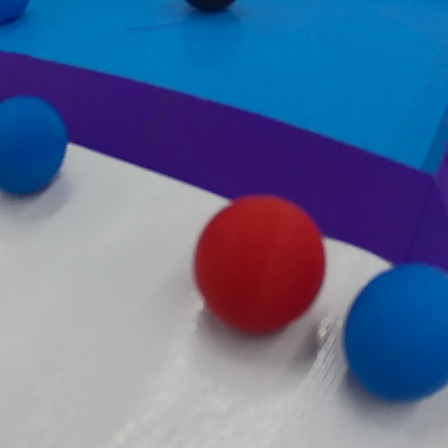blue: (340, 261, 448, 409), (0, 90, 78, 202)
blue_aim: (0, 0, 447, 275)
red: (187, 191, 322, 343)
